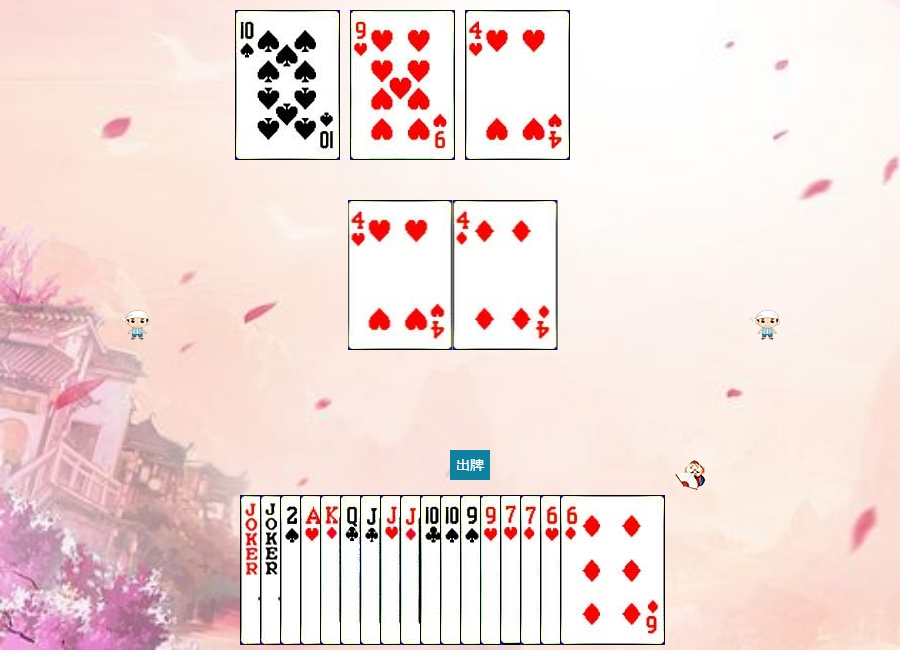10~2: (420, 495, 525, 645)
10~4: (235, 10, 340, 160), (440, 495, 545, 645)
11~1: (400, 495, 505, 645)
11~2: (360, 495, 465, 645)
11~3: (380, 495, 485, 645)
12~2: (340, 495, 445, 645)
13~1: (320, 495, 425, 645)
14~3: (300, 495, 405, 645)
15~4: (280, 495, 385, 645)
17~3: (260, 495, 365, 645)
18~4: (240, 495, 345, 645)
4~1: (453, 200, 558, 350)
4~3: (465, 10, 570, 160), (348, 200, 453, 350)
6~1: (560, 495, 665, 645)
6~3: (540, 495, 645, 645)
7~1: (520, 495, 625, 645)
7~3: (500, 495, 605, 645)
9~3: (350, 10, 455, 160), (480, 495, 585, 645)
9~4: (460, 495, 565, 645)
